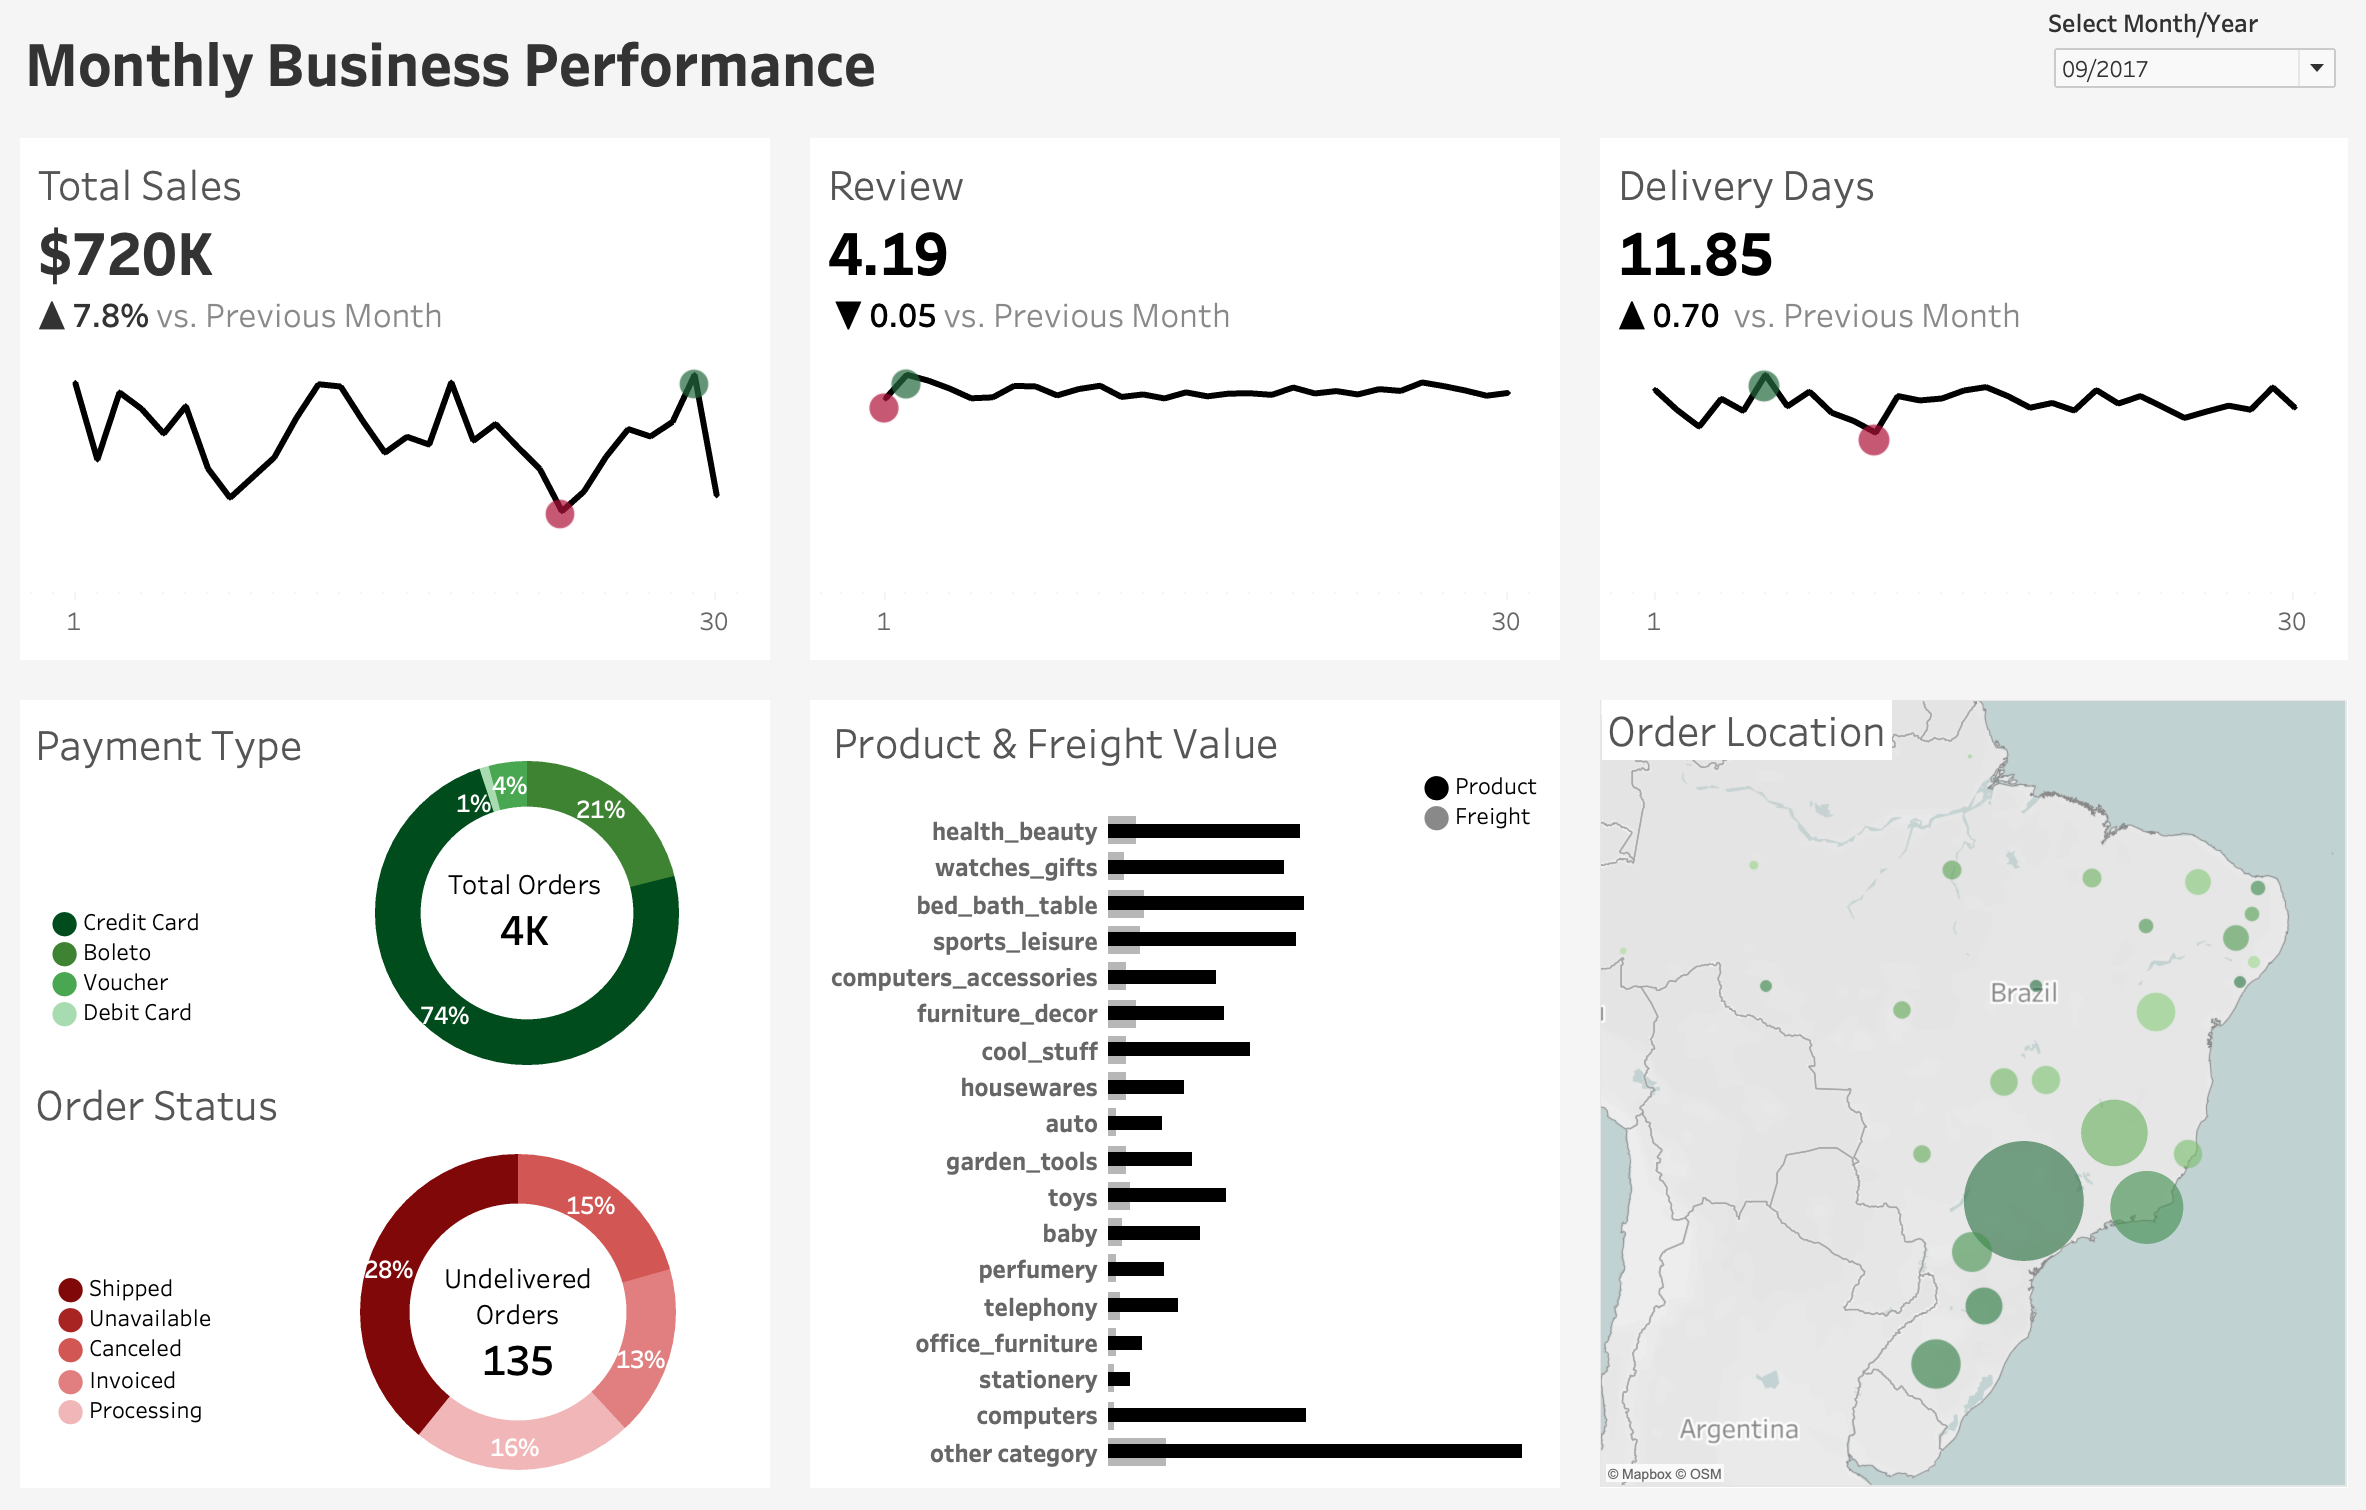

The dashboard page shown, as its layout file describes it:
{"tool":"tableau","page":{"name":"Dashboard 2","canvas":[1200,800],"ordinal":0},"visuals":[{"type":"text","box":[8,8,1184,76]},{"type":"parameter","param":"[Parameters].[Parameter 2]","box":[1032,18,147,44]},{"type":"worksheet","title":"Sales","mark":"Automatic","rows":["Calculation_1997487174109052932","Calculation_1997487174151716877"],"cols":["order_date"],"box":[8,84,395,271]},{"type":"worksheet","title":"Review","mark":"Line","rows":["Calculation_1997487174162771984","Calculation_1997487174140006409"],"cols":["order_date"],"box":[403,84,395,271]},{"type":"worksheet","title":"Delivery","mark":"Automatic","rows":["Calculation_1997487174171836438","Calculation_1997487174173802521"],"cols":["order_date"],"box":[798,84,394,271]},{"type":"worksheet","title":"orderLocation","mark":"Automatic","rows":["cus_lat"],"cols":["cus_lng"],"box":[798,355,394,414]},{"type":"text","box":[809,365,145,30]},{"type":"blank","box":[23,370,132,203]},{"type":"worksheet","title":"Payment","mark":"Pie","cols":["Calculation_1997487174348451870","Calculation_1997487174348451870"],"box":[155,370,233,203]},{"type":"text","box":[418,370,365,32]},{"type":"text","box":[23,372,145,30]},{"type":"text","box":[717,398,67,36]},{"type":"worksheet","title":"Product","mark":"Bar","cols":["freight","product_price"],"box":[418,402,365,352]},{"type":"text","box":[31,467,101,65]},{"type":"text","box":[23,552,181,30]},{"type":"blank","box":[23,573,122.6,181]},{"type":"worksheet","title":"cancel","mark":"Pie","cols":["Calculation_1997487174348451870","Calculation_1997487174348451870"],"box":[145.6,573,242.4,181]},{"type":"text","box":[34,652,106,78]}]}

Visuals, with their boxes on the page's 1200x800 design canvas (x1, y1, x2, y2). These are canvas units, not pixel positions in the 2366x1510 screenshot, which may show the page scaled, cropped or inside an application window:
text: region(8, 8, 1192, 84)
parameter: region(1032, 18, 1179, 62)
"Sales" worksheet: region(8, 84, 403, 355)
"Review" worksheet (Line marks): region(403, 84, 798, 355)
"Delivery" worksheet: region(798, 84, 1192, 355)
"orderLocation" worksheet: region(798, 355, 1192, 769)
text: region(809, 365, 954, 395)
blank: region(23, 370, 155, 573)
"Payment" worksheet (Pie marks): region(155, 370, 388, 573)
text: region(418, 370, 783, 402)
text: region(23, 372, 168, 402)
text: region(717, 398, 784, 434)
"Product" worksheet (Bar marks): region(418, 402, 783, 754)
text: region(31, 467, 132, 532)
text: region(23, 552, 204, 582)
blank: region(23, 573, 146, 754)
"cancel" worksheet (Pie marks): region(146, 573, 388, 754)
text: region(34, 652, 140, 730)
